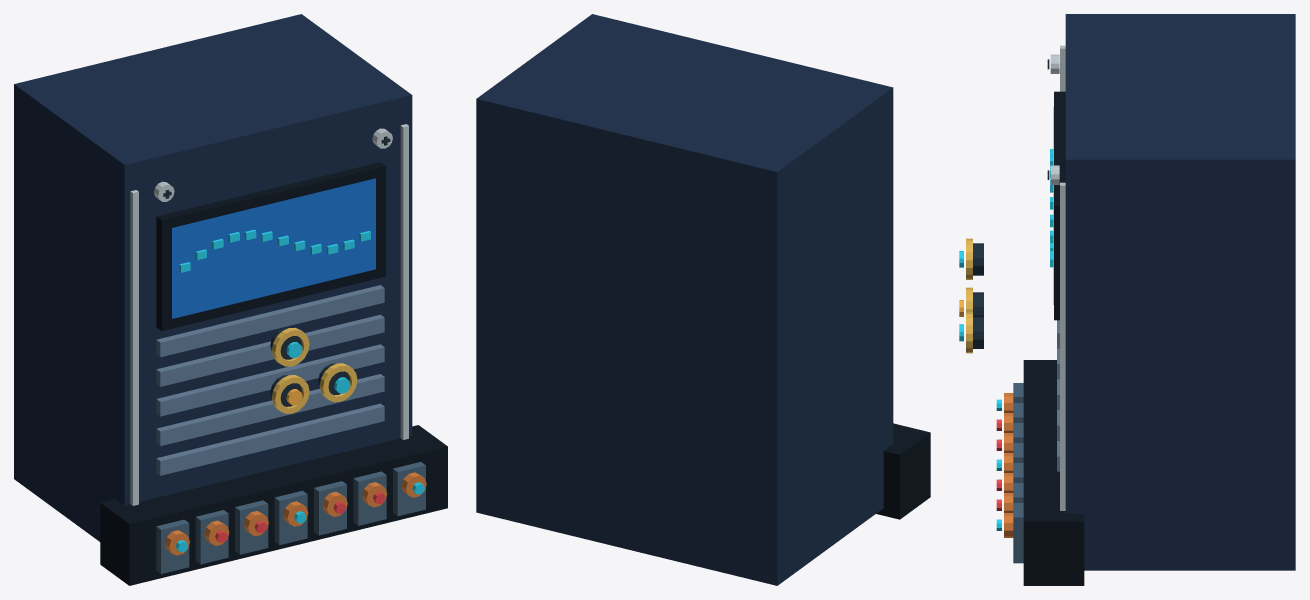
File: 55_L83_SciencePayloadLoadEmulator.fbx
3 renders of one model, left to right at view 1: azimuth 30°, elevation 25°; view 2: azimuth 150°, elevation 25°; view 3: azimuth 270°, elevation 25°, orthographic. The views are drawn at different scales.
Parts seen in each view (by area): view 1: SciencePayloadLoadEmulator; view 2: SciencePayloadLoadEmulator; view 3: SciencePayloadLoadEmulator.
Part boxes in pixels (x1=…): SciencePayloadLoadEmulator: x1=14, y1=14, x2=447, y2=585; SciencePayloadLoadEmulator: x1=476, y1=14, x2=930, y2=585; SciencePayloadLoadEmulator: x1=959, y1=14, x2=1295, y2=585.
Size of the model in its own units: 113 by 136 by 99.35.
